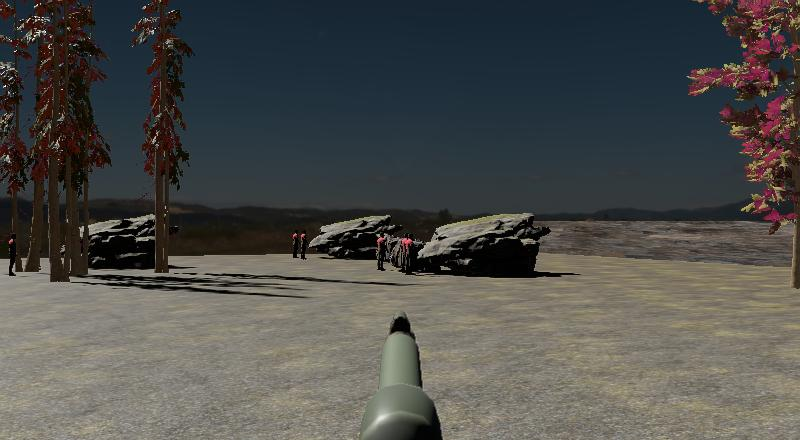Human: (5, 231, 20, 278), (404, 232, 417, 276), (403, 231, 415, 276), (376, 229, 388, 272)
